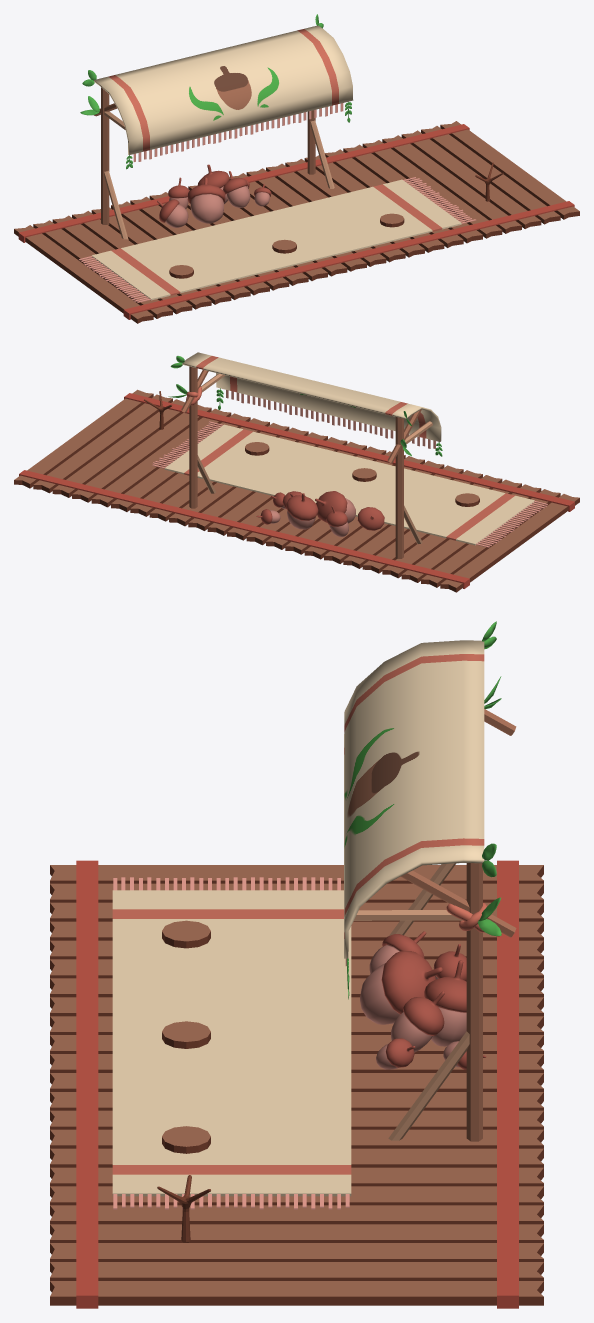
The model's file is shopkeeper_area 1.fbx.
3 renders of one model, top to bottom at view 1: azimuth 30°, elevation 25°; view 2: azimuth 150°, elevation 25°; view 3: azimuth 270°, elevation 25°, orthographic. The views are drawn at different scales.
Visible parts, largest first — view 1: shopkeeper_area.001; view 2: shopkeeper_area.001; view 3: shopkeeper_area.001, stand1, stand3, stand2.
Boxes of the visible parts, bbox=[...] form: shopkeeper_area.001: bbox=[14, 14, 579, 323]; shopkeeper_area.001: bbox=[14, 352, 579, 592]; shopkeeper_area.001: bbox=[50, 621, 543, 1308]; stand1: bbox=[162, 1126, 210, 1153]; stand3: bbox=[162, 920, 210, 948]; stand2: bbox=[162, 1021, 210, 1048].
Bounding box in the file's own units: 1423 × 482 × 684.
